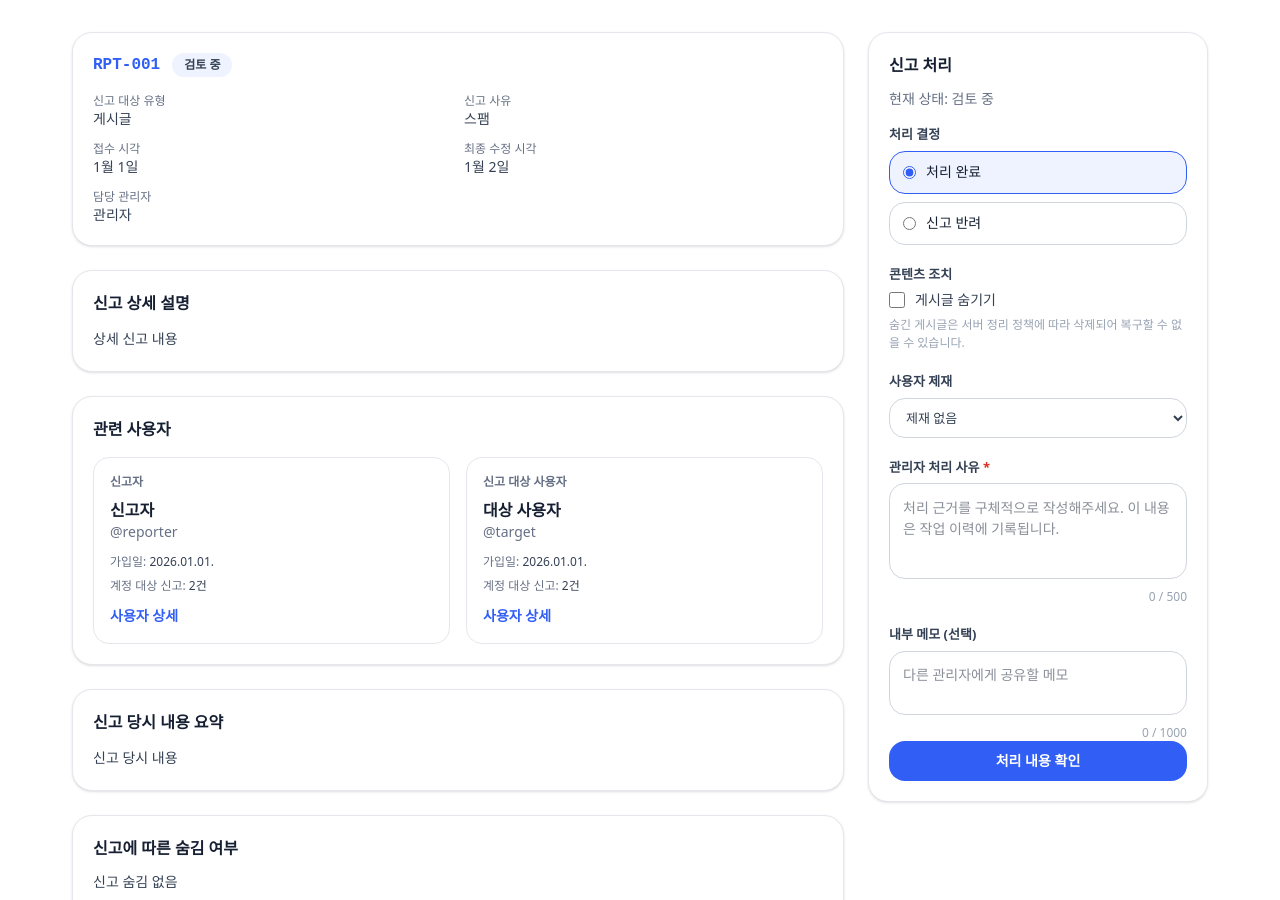
Test case: AdminReportDetail › submits a 3-day penalty in one integrated request and retains the status on failure
This screenshot has width=1280, height=900.
Select "3일 이용 제한" in the dropdown labelled "사용자 제재" at (1038, 418), box [889, 398, 1187, 438]
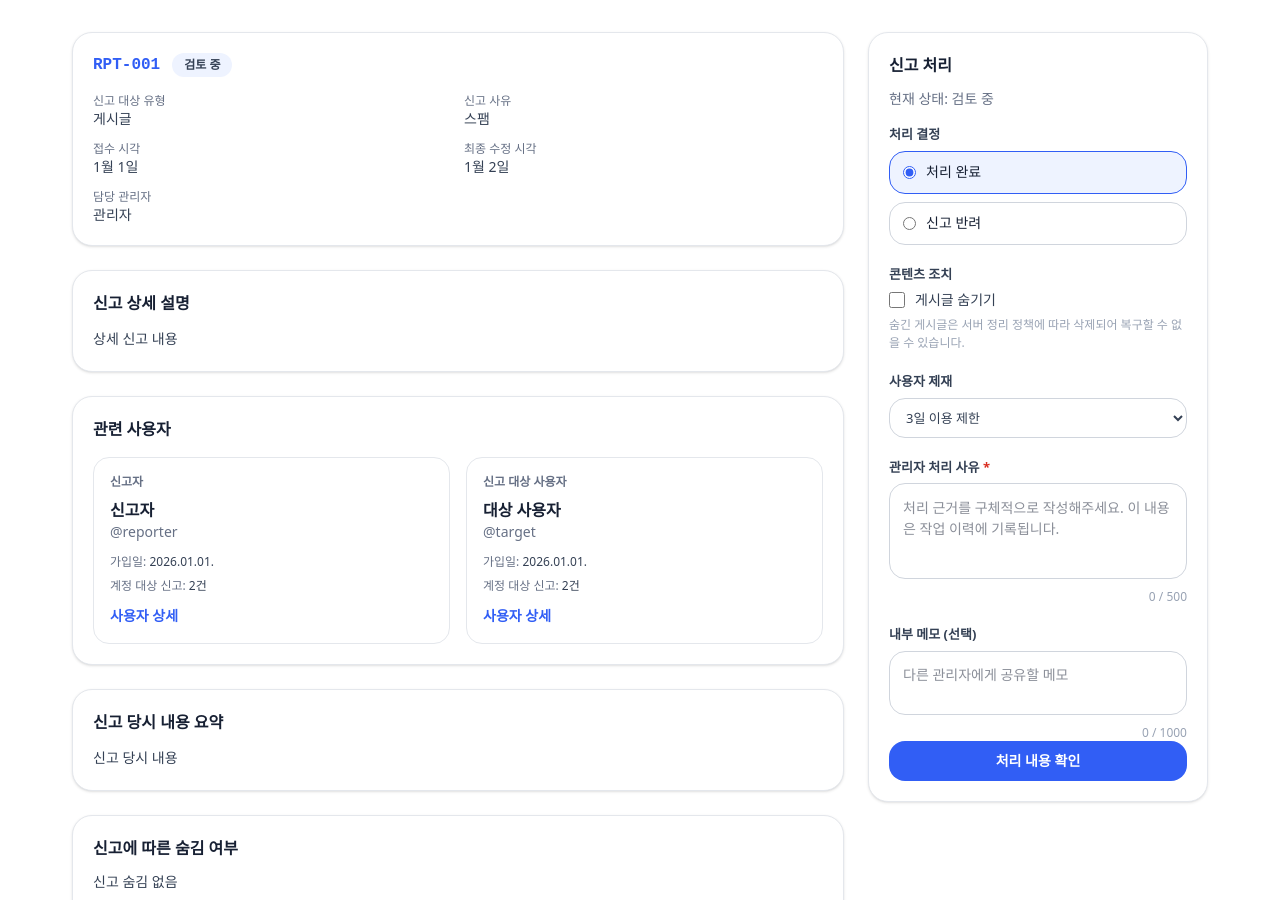
Type "반복적인 스팸" into the text box with placeholder "처리 근거를 구체적으로 작성해주세요. 이 내용은 작업 이력에 기록됩니다." at (1038, 531), box [889, 483, 1187, 579]
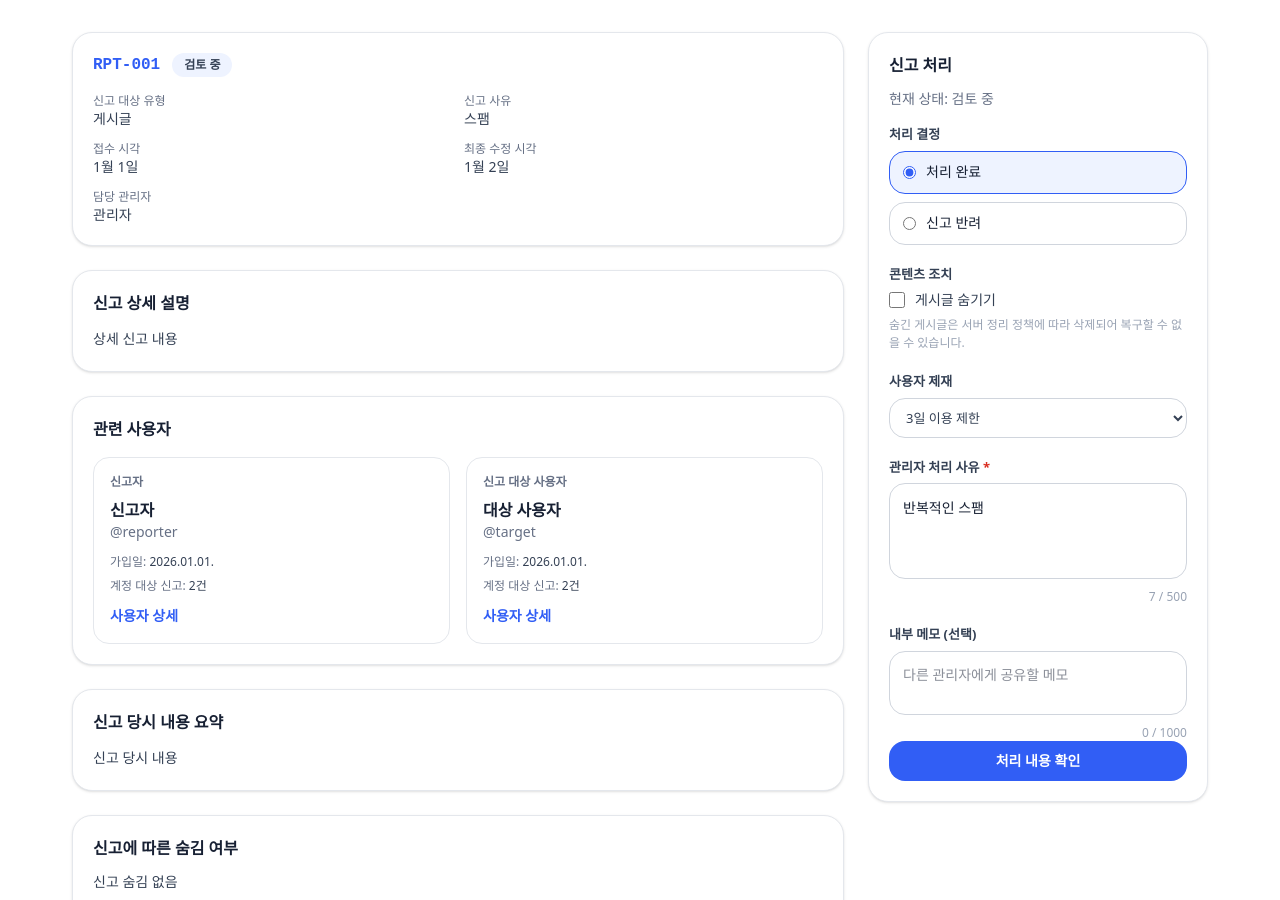
Click the button "처리 내용 확인" at (1038, 760), box [889, 740, 1187, 780]
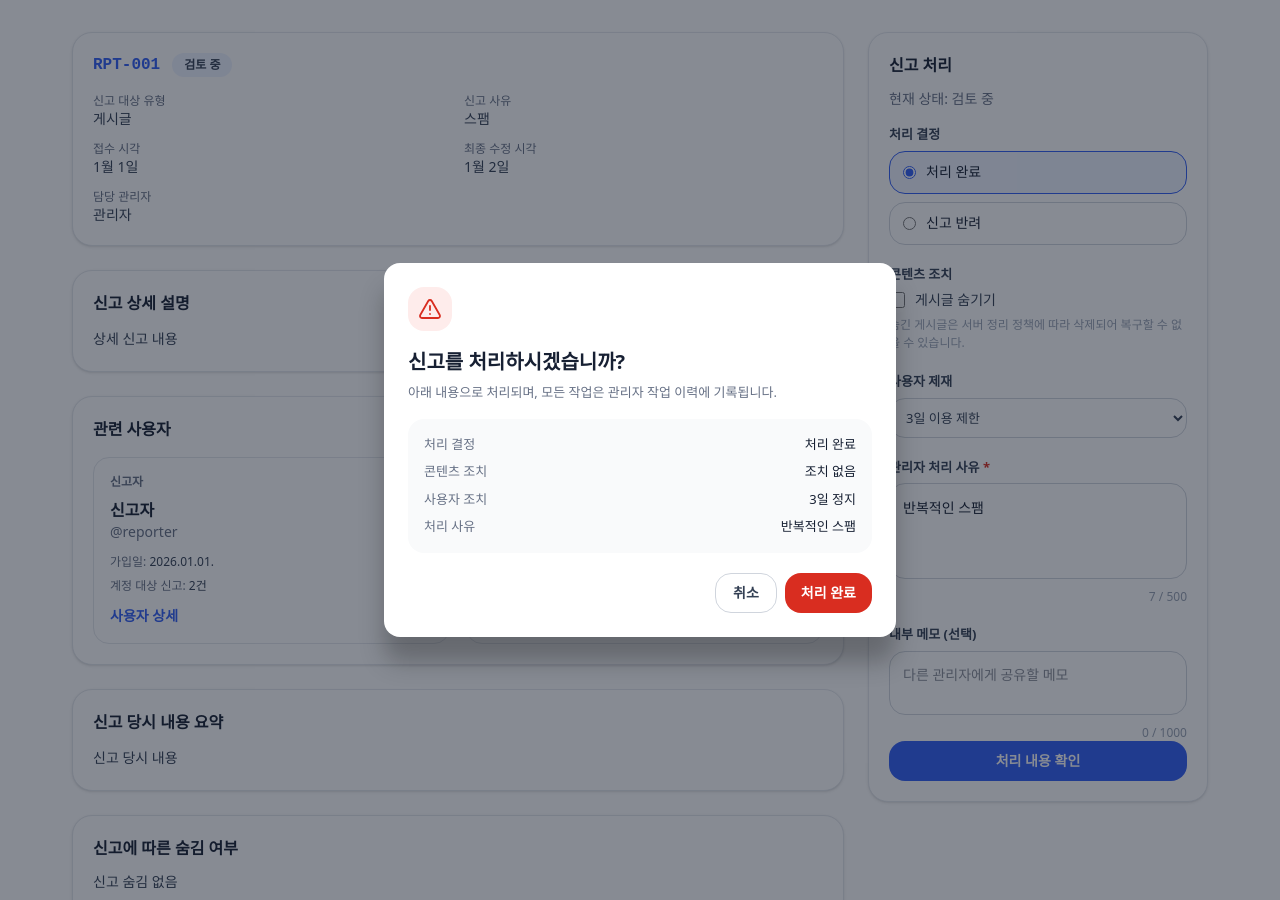
Click the button "처리 완료" at (828, 593), box [785, 573, 872, 613]
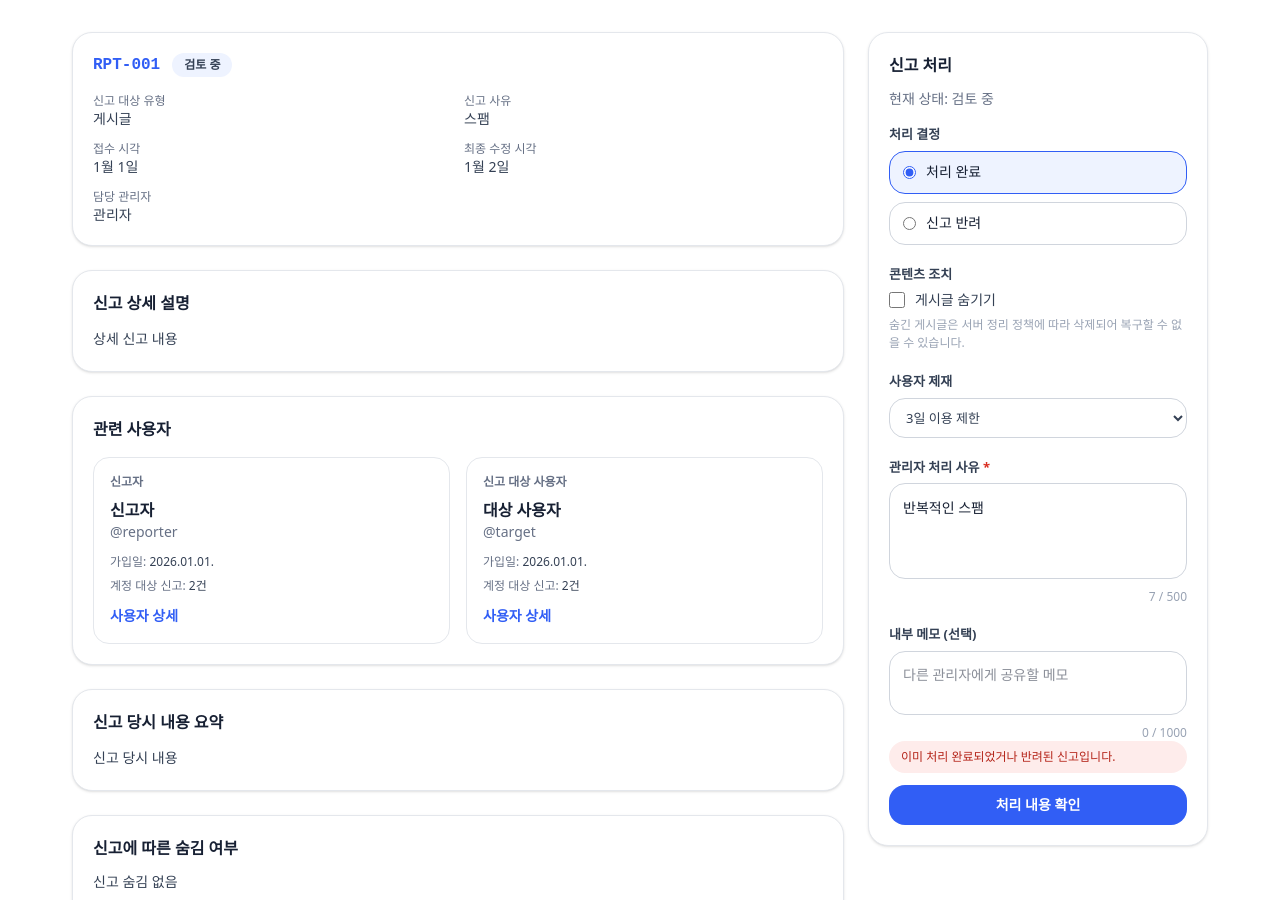
Check: the button "처리 내용 확인" is shown, box [889, 784, 1187, 824]
Check: the message shows "이미 처리 완료", box [901, 748, 1115, 764]
